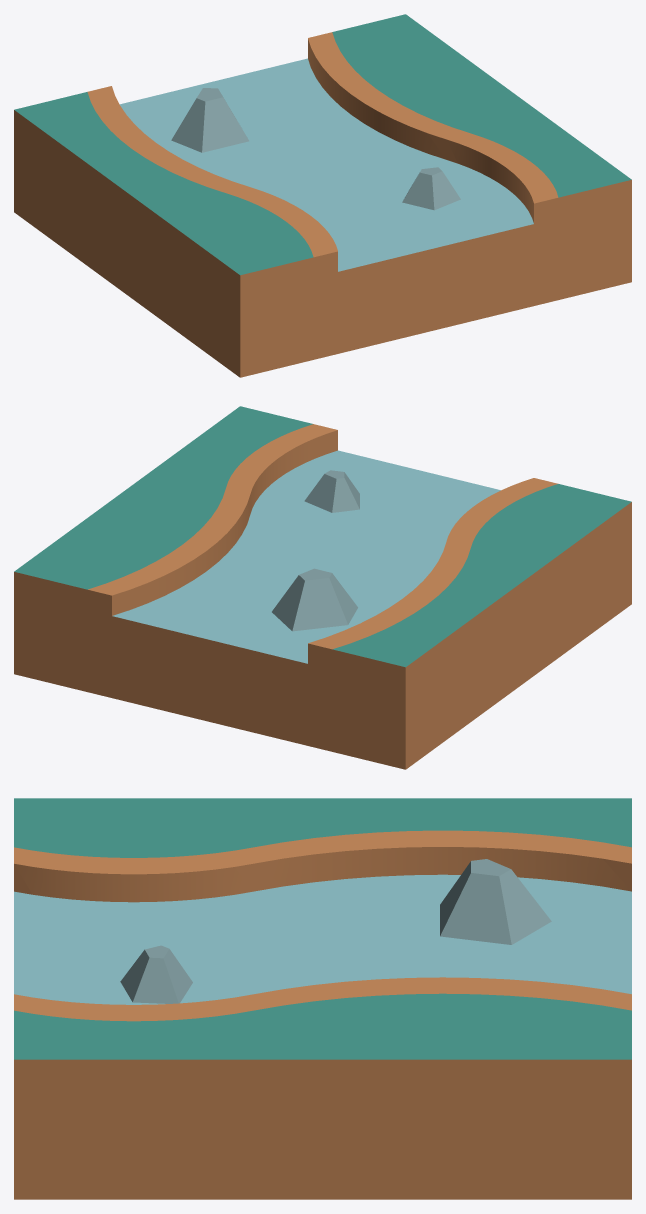
File: ground_dirtRiverRocks.obj
The picture shows the model from 3 angles, top to bottom: view 1: azimuth 30°, elevation 25°; view 2: azimuth 150°, elevation 25°; view 3: azimuth 270°, elevation 25°; orthographic projection. The views are drawn at different scales.
Parts seen in each view (by area): view 1: ground_dirtRiverRocks; view 2: ground_dirtRiverRocks; view 3: ground_dirtRiverRocks.
Boxes of the visible parts, <box> form: ground_dirtRiverRocks: <box>14,14,631,377</box>; ground_dirtRiverRocks: <box>14,406,631,769</box>; ground_dirtRiverRocks: <box>14,798,631,1199</box>.
Bounding box in the file's own units: 10 × 2.96 × 10.
